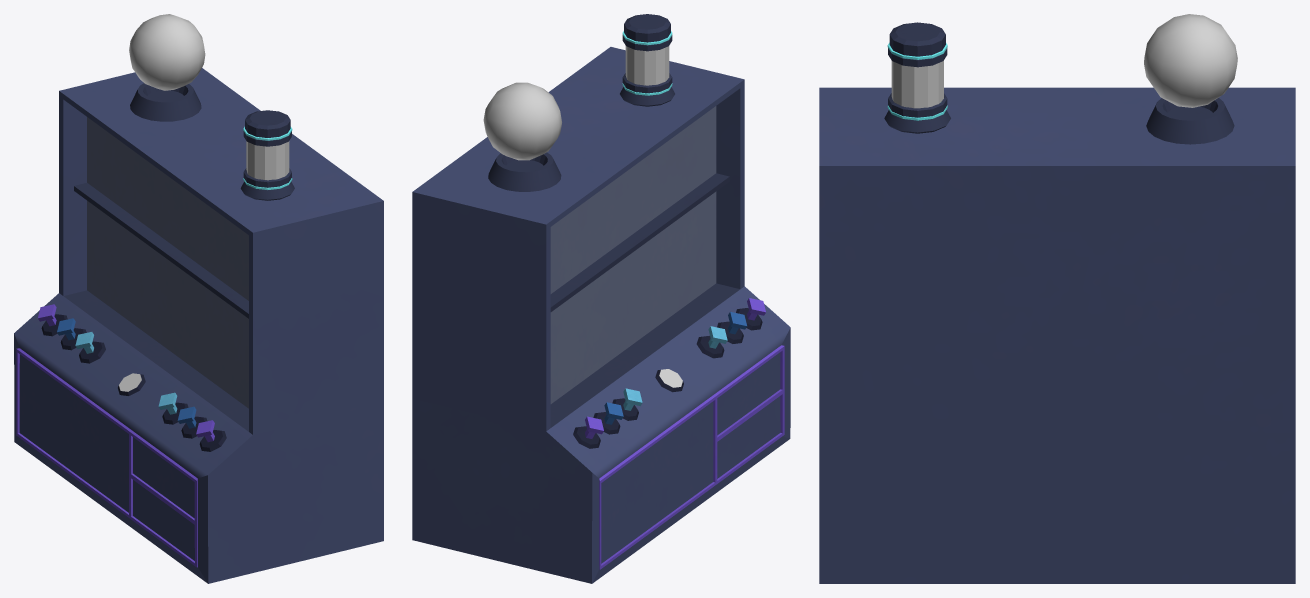
Rendered from dcoshelf.fbx.
The picture shows the model from 3 angles, left to right: view 1: azimuth 30°, elevation 25°; view 2: azimuth 150°, elevation 25°; view 3: azimuth 270°, elevation 25°; orthographic projection. The views are drawn at different scales.
Visible parts, largest first — view 1: pasted__pasted__pasted__polySurface286, pPlane15, pasted__pasted__pPlatonic7, pasted__group3_pasted__pasted__pasted__polySurface300, pasted__pCylinder56, pasted__pasted__pCylinder1, pasted__pCylinder48; view 2: pasted__pasted__pasted__polySurface286, pPlane15, pasted__pasted__pPlatonic7, pasted__group3_pasted__pasted__pasted__polySurface300, pasted__pCylinder56, pasted__pasted__pCylinder1, pasted__pCylinder48; view 3: pasted__pasted__pasted__polySurface286, pasted__pasted__pPlatonic7, pasted__pCylinder56, pasted__pasted__pCylinder1, pasted__pCylinder48.
Boxes of the visible parts, <box> form: pasted__pasted__pasted__polySurface286: <box>14,68,383,583</box>; pPlane15: <box>87,117,248,408</box>; pasted__pasted__pPlatonic7: <box>129,14,205,90</box>; pasted__group3_pasted__pasted__pasted__polySurface300: <box>38,304,226,451</box>; pasted__pCylinder56: <box>240,110,294,200</box>; pasted__pasted__pCylinder1: <box>130,83,201,121</box>; pasted__pCylinder48: <box>246,141,289,180</box>; pasted__pasted__pasted__polySurface286: <box>412,47,790,583</box>; pPlane15: <box>550,106,716,403</box>; pasted__pasted__pPlatonic7: <box>483,82,561,160</box>; pasted__group3_pasted__pasted__pasted__polySurface300: <box>573,298,765,448</box>; pasted__pCylinder56: <box>620,14,674,106</box>; pasted__pasted__pCylinder1: <box>488,152,561,191</box>; pasted__pCylinder48: <box>625,46,669,85</box>; pasted__pasted__pasted__polySurface286: <box>819,87,1295,583</box>; pasted__pasted__pPlatonic7: <box>1144,14,1237,107</box>; pasted__pCylinder56: <box>884,22,950,133</box>; pasted__pasted__pCylinder1: <box>1146,97,1234,144</box>; pasted__pCylinder48: <box>891,60,943,108</box>.
Bounding box in the file's own units: 21.71 × 49.82 × 40.84.
